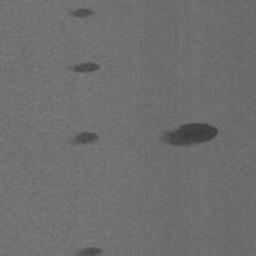Oil spot: (157, 122, 220, 147), (68, 131, 99, 147), (64, 61, 101, 74), (73, 244, 105, 256), (67, 6, 95, 19)
